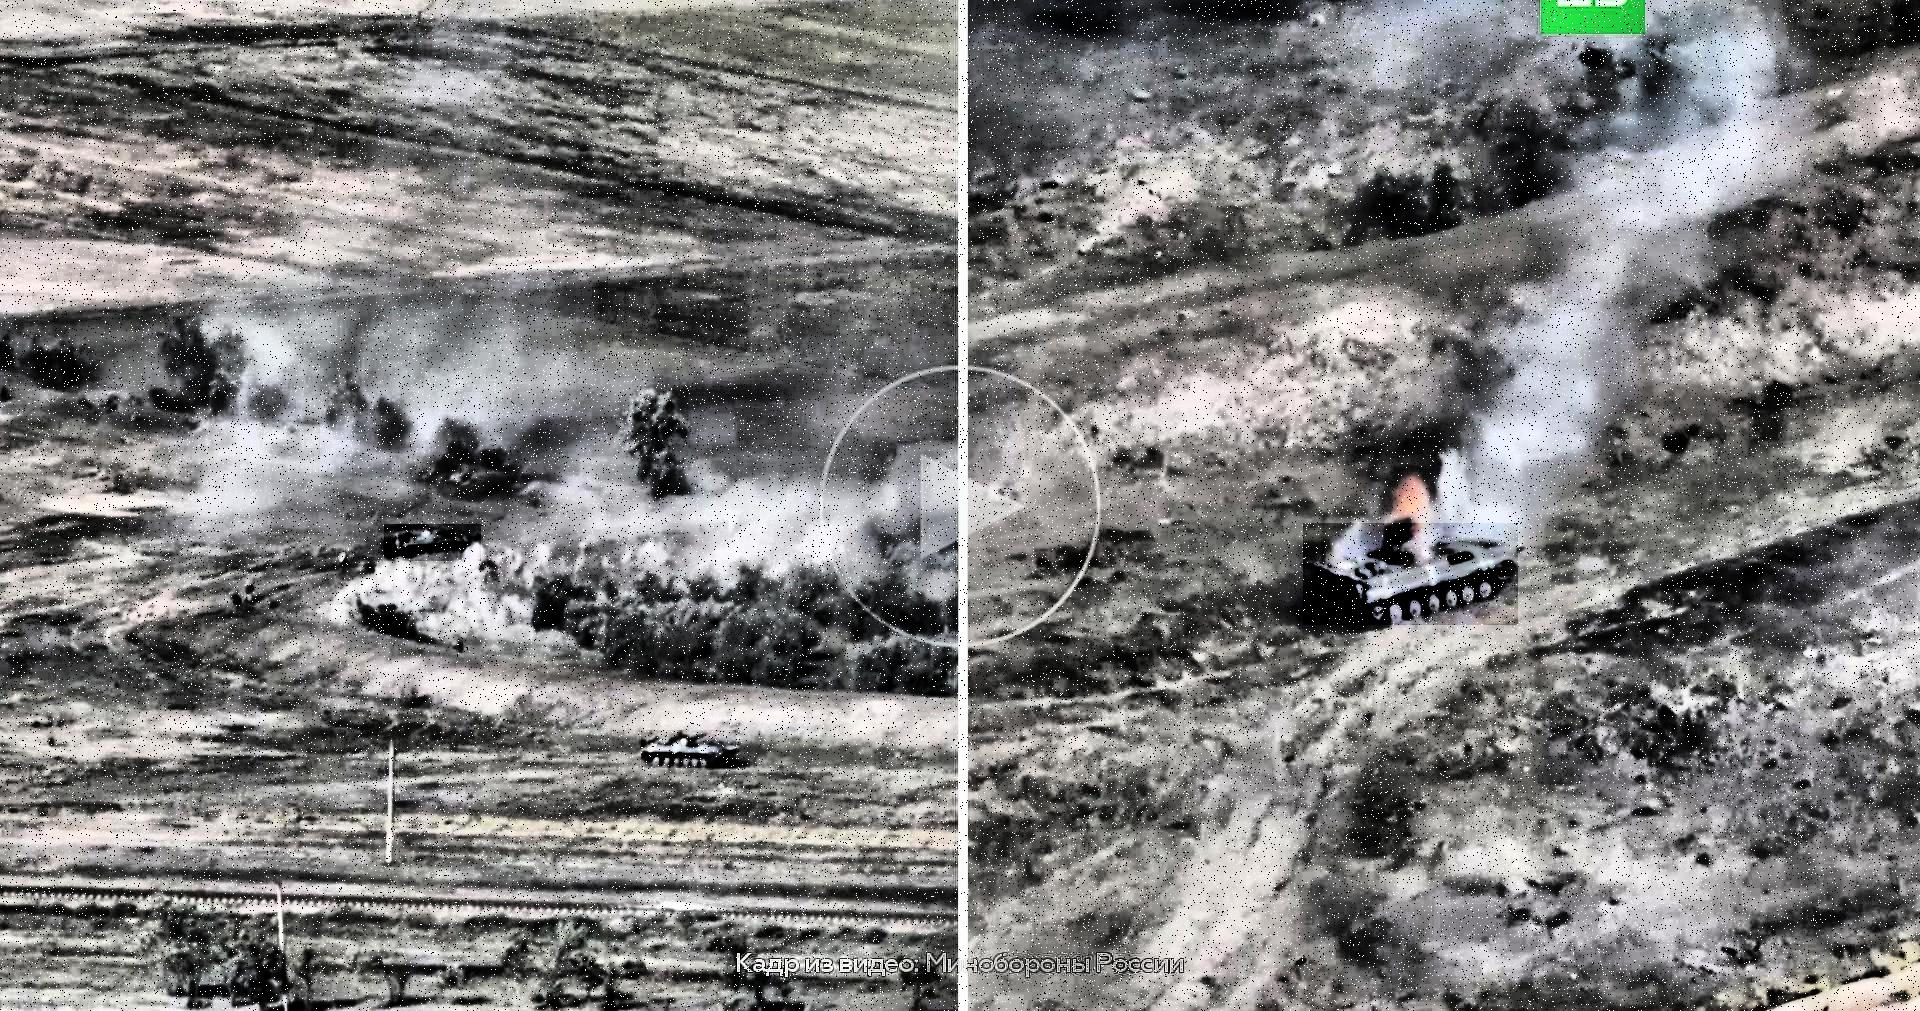military-vehicle: (1303, 523, 1519, 625), (641, 730, 737, 768), (385, 525, 481, 561)
